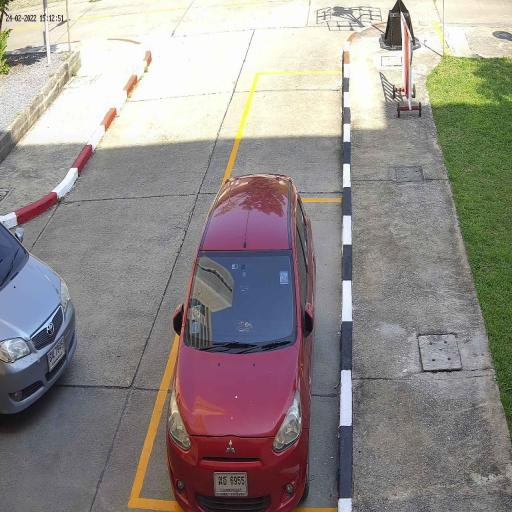car: (166, 172, 317, 512), (0, 218, 77, 416)
